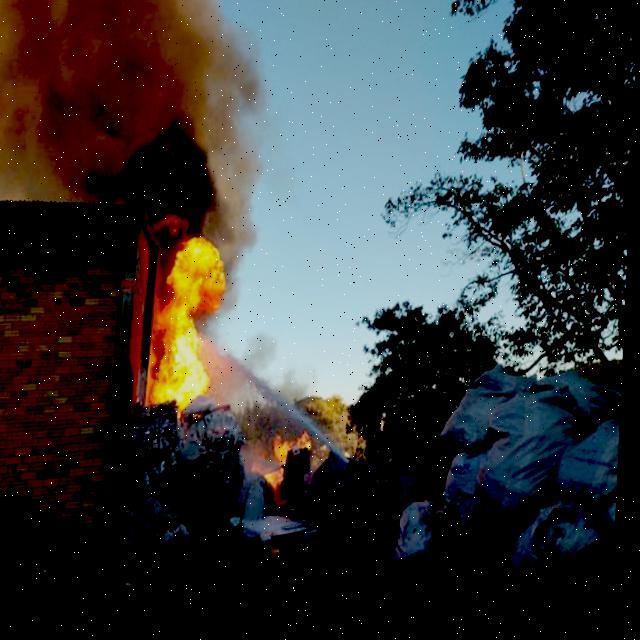Fire: (146, 238, 235, 408), (269, 433, 322, 492)
